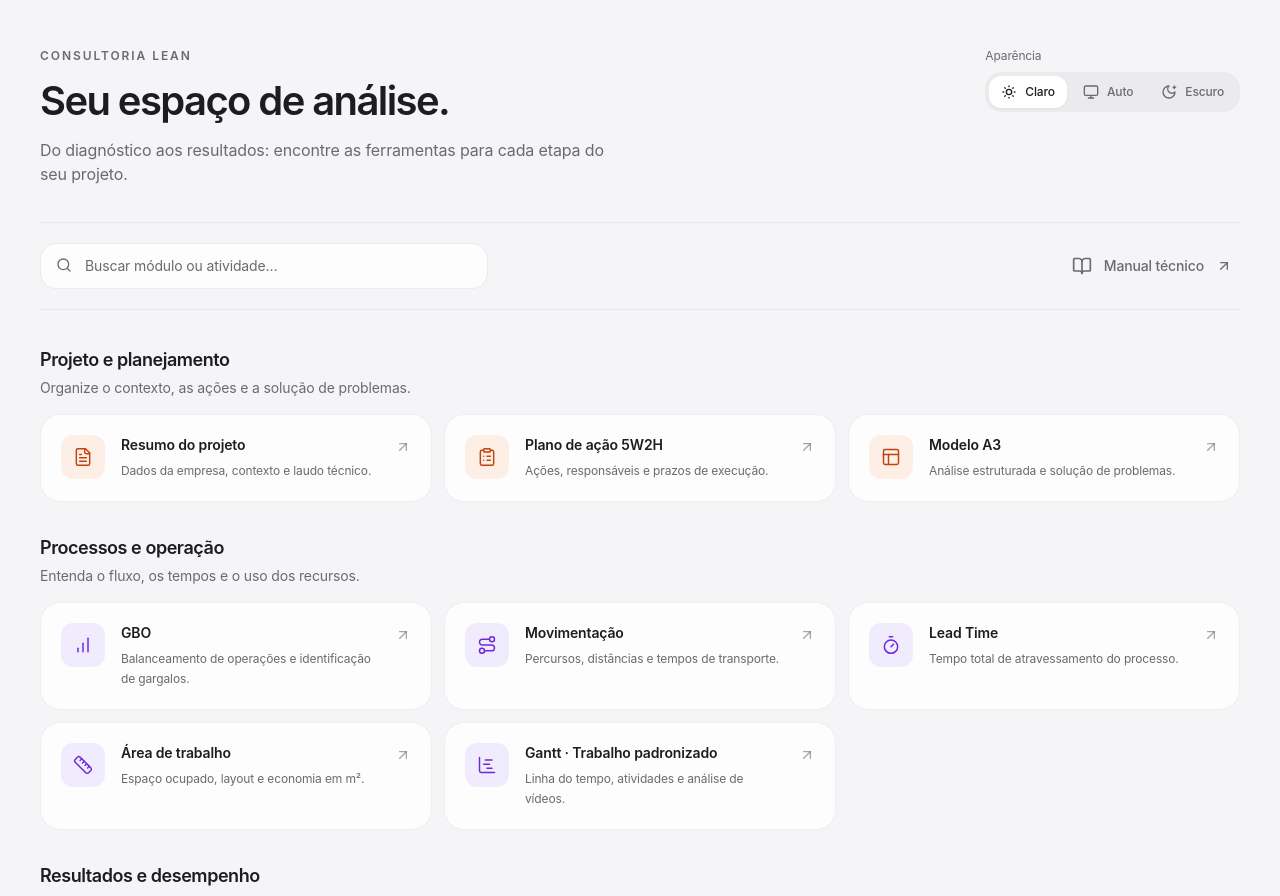
Test case: Home dashboard › searches without accents and clears the empty state
Type "movimentacao" into the field named "Buscar módulos".
click(264, 266); type("movimentacao")  # box [40,243,488,289]
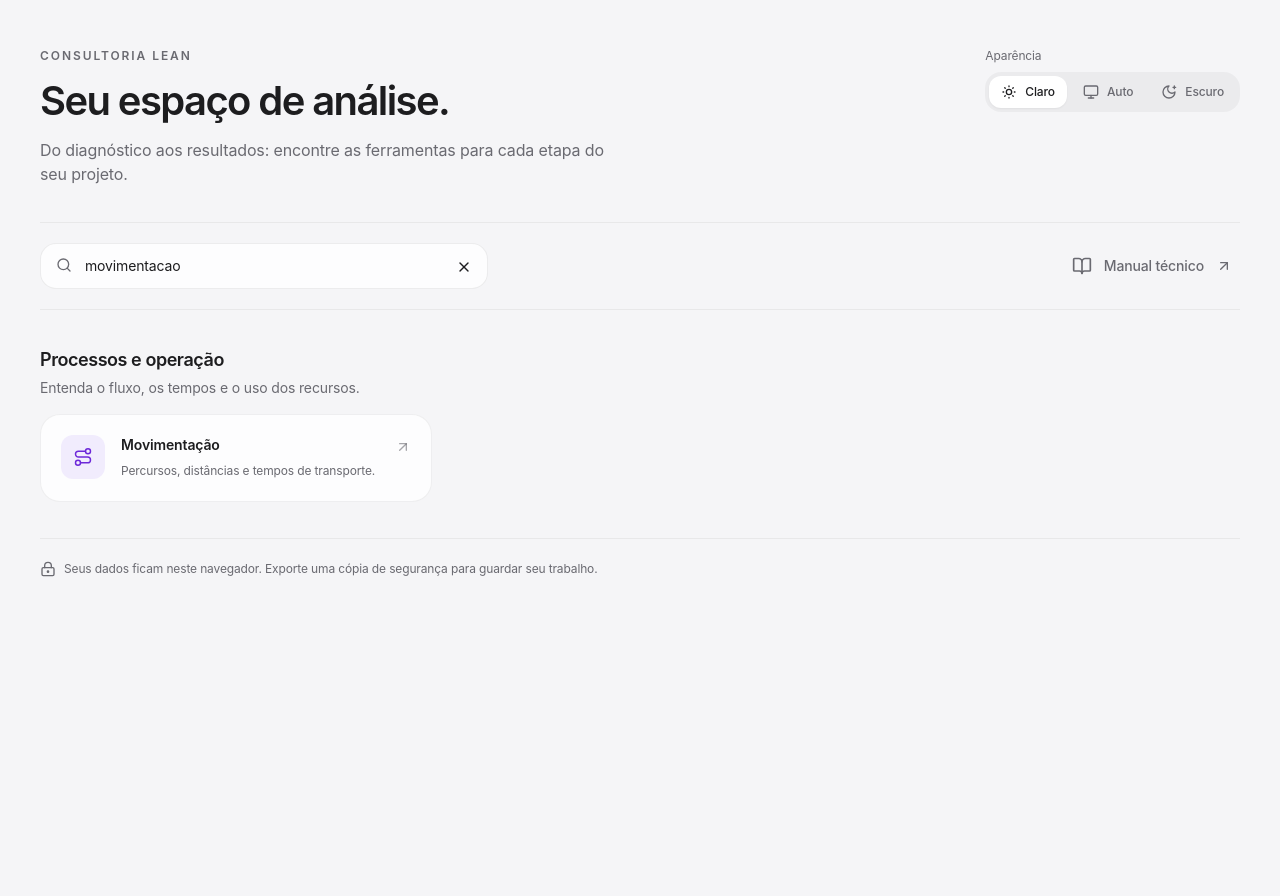
Expected: the button "Movimentação Percursos, distâncias e tempos de transporte." is shown, [40,414,432,502]
Replace the text in the field with "zzzzz" at (264, 266), box [40,243,488,289]
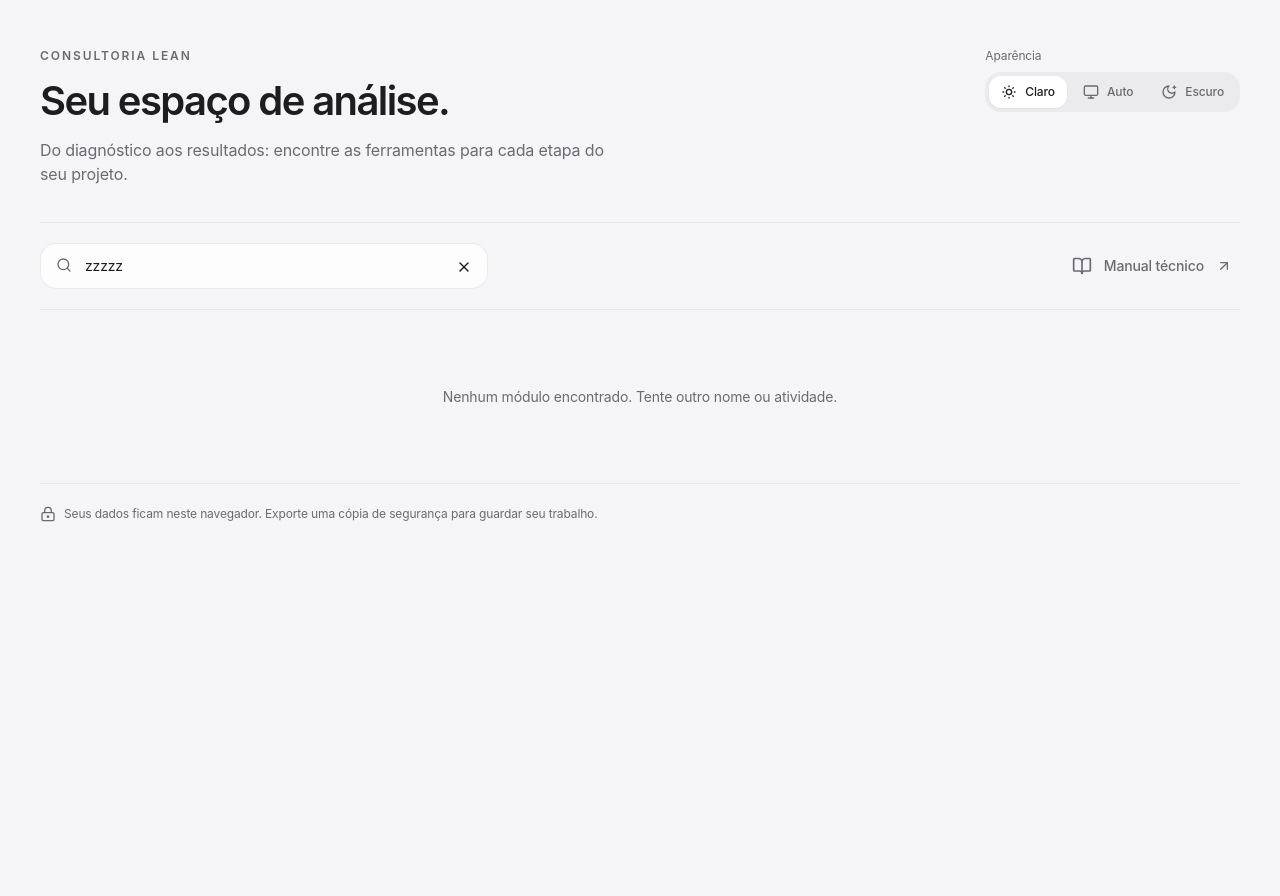
Result: the message shows "Nenhum módulo" at [443,388,837,405]
Click the button named "Limpar busca".
click(464, 267)  # box [448,251,480,283]
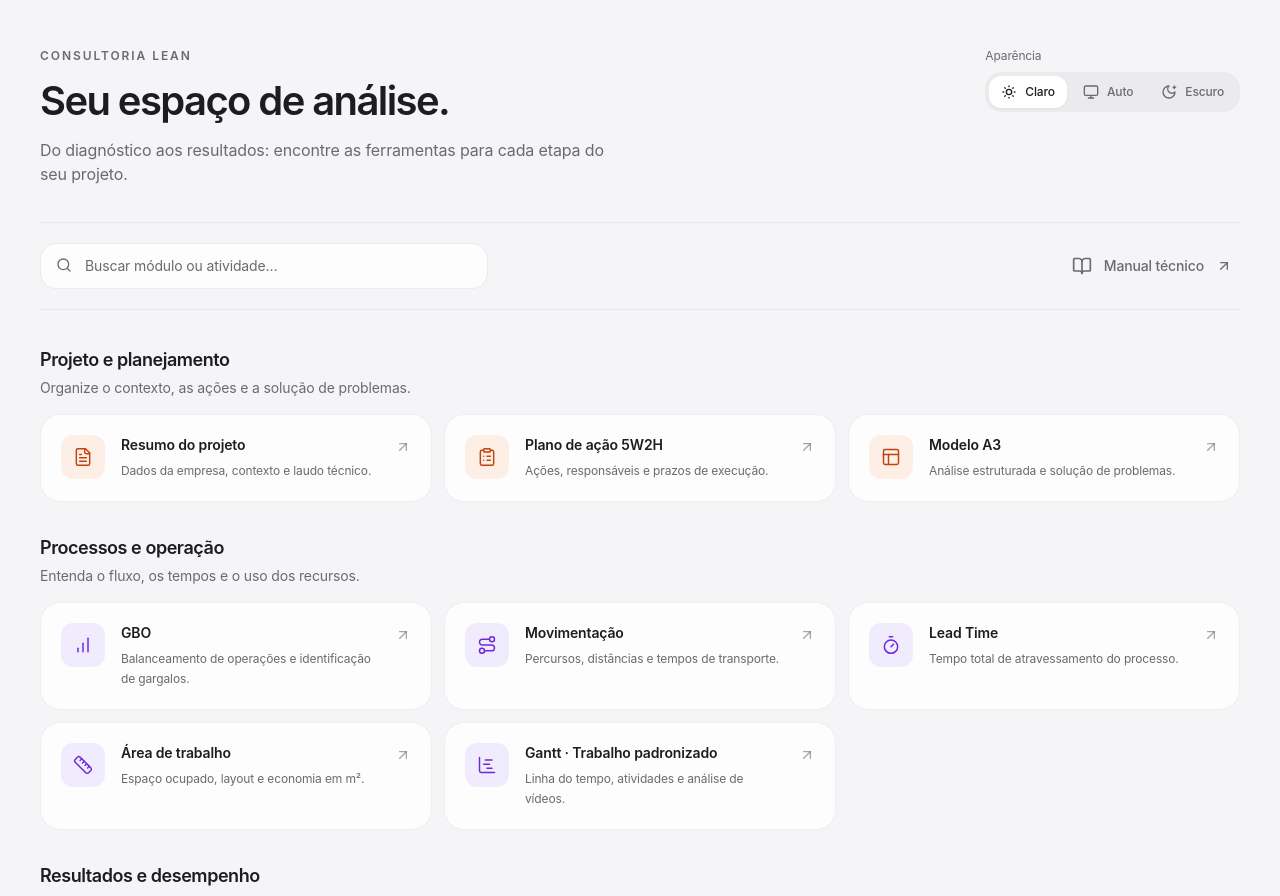
Result: the button "Gantt" is shown at [444,722,836,830]
